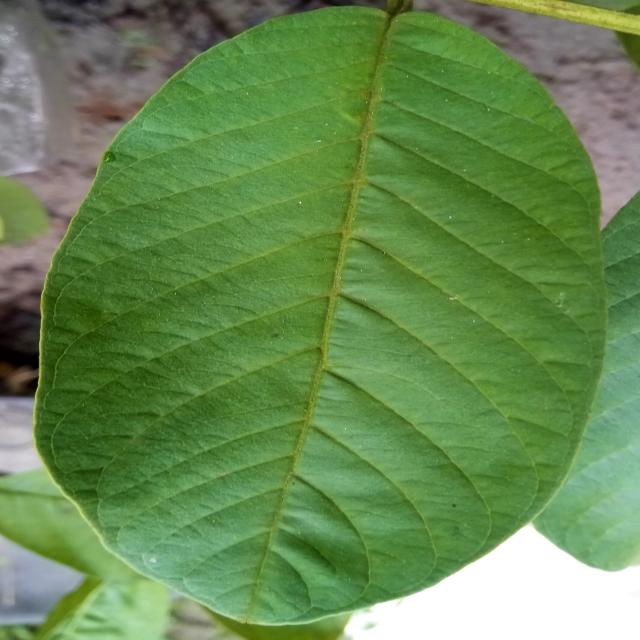Disease Free: (35, 8, 608, 625), (534, 195, 639, 571)
